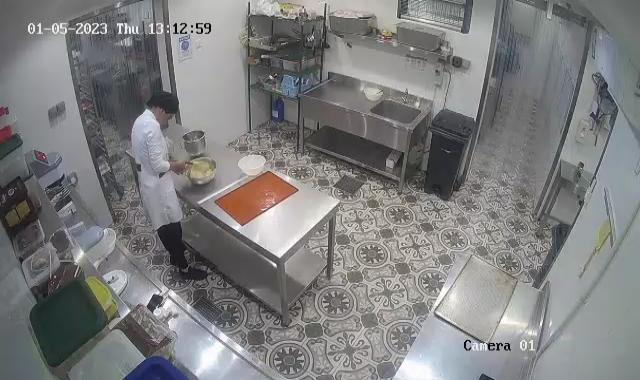no_hairnet: (148, 93, 180, 118)
